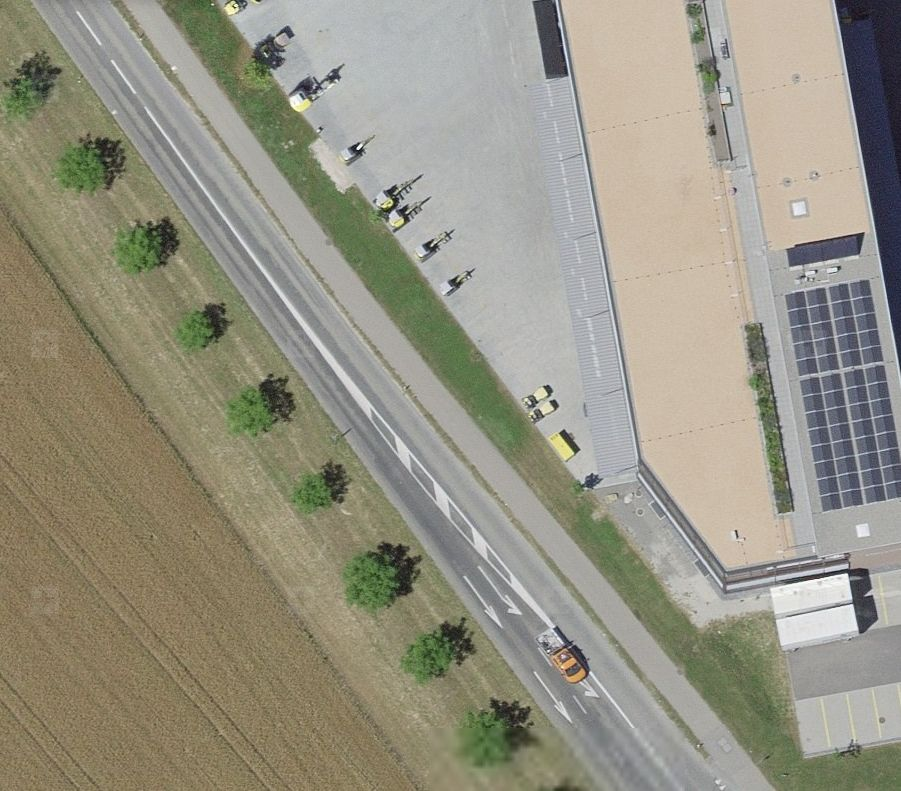solar: (784, 278, 901, 511)
